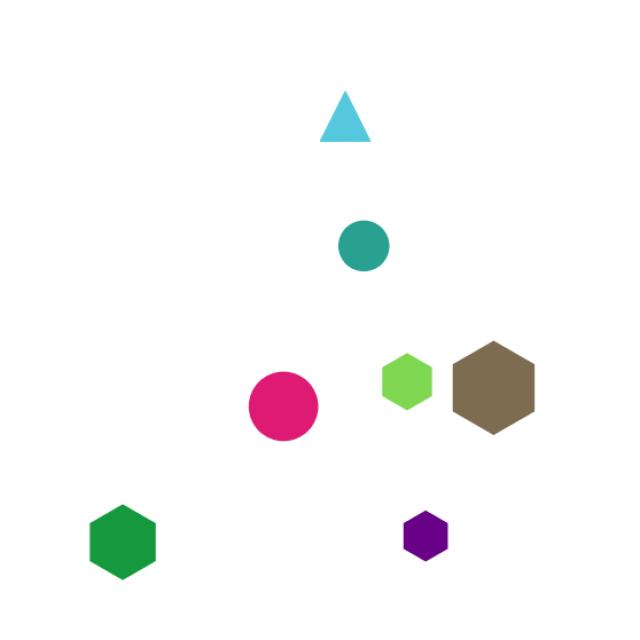Circle: (220, 355, 352, 455), (328, 210, 426, 280)
Hexagon: (452, 336, 574, 441), (79, 495, 175, 590), (374, 336, 452, 422), (384, 488, 460, 565)
Triangle: (301, 74, 383, 150)
